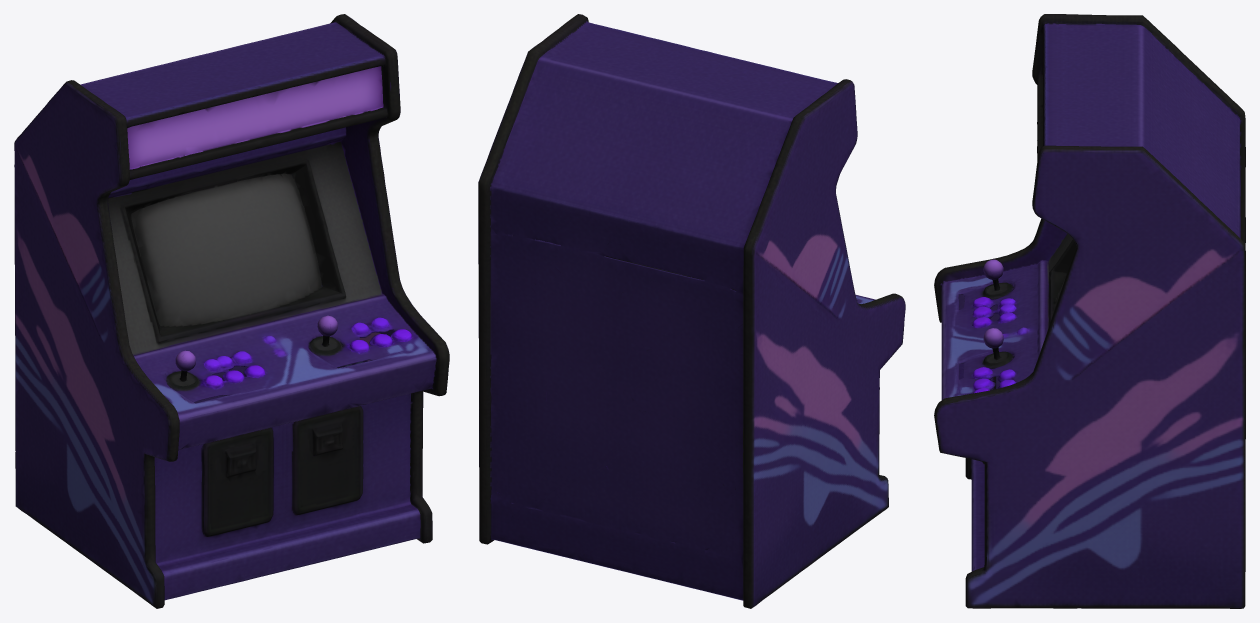
File: 08_arcade_08_fighting_cabinet_2p.glb
3 views of the same model, side by side, from view 1: azimuth 30°, elevation 25°; view 2: azimuth 150°, elevation 25°; view 3: azimuth 270°, elevation 25° (orthographic).
Visible parts, largest first — view 1: world; view 2: world; view 3: world.
Boxes of the visible parts, bbox=[...] form: world: bbox=[14, 14, 449, 608]; world: bbox=[478, 14, 905, 608]; world: bbox=[934, 14, 1245, 608].
Bounding box in the file's own units: 0.6359 × 1 × 0.6147.
Materials: 1 (1 with a texture image).
